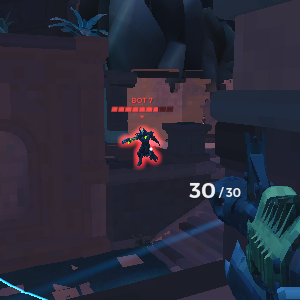model: (126, 123, 162, 173)
